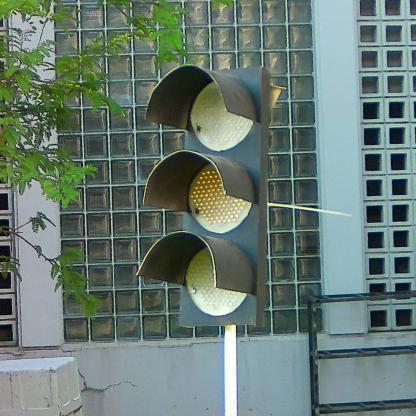yellow: (140, 67, 266, 326)
